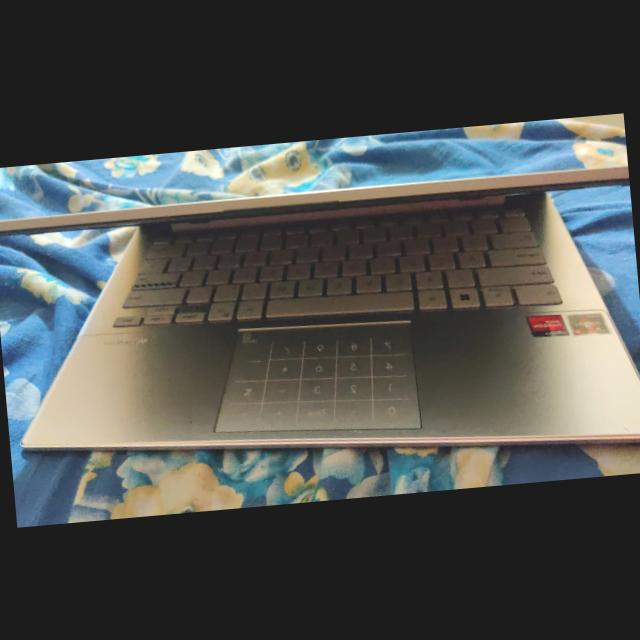laptop: (0, 151, 640, 492)
